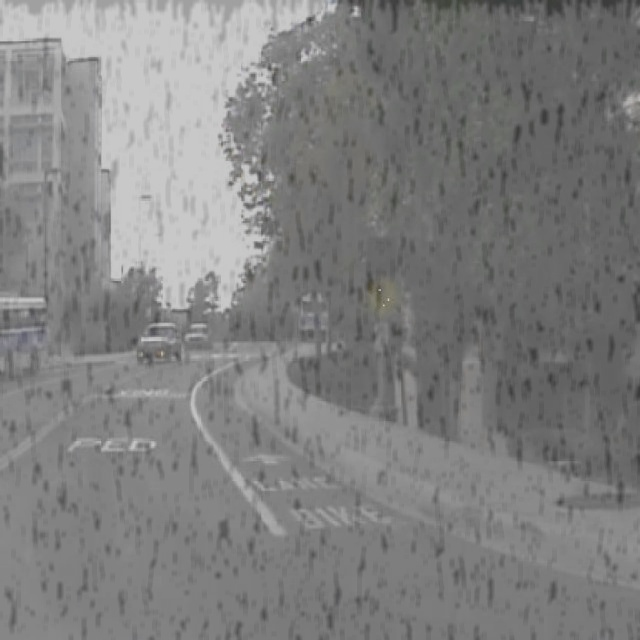pedestrianCrossing: (363, 269, 397, 317)
